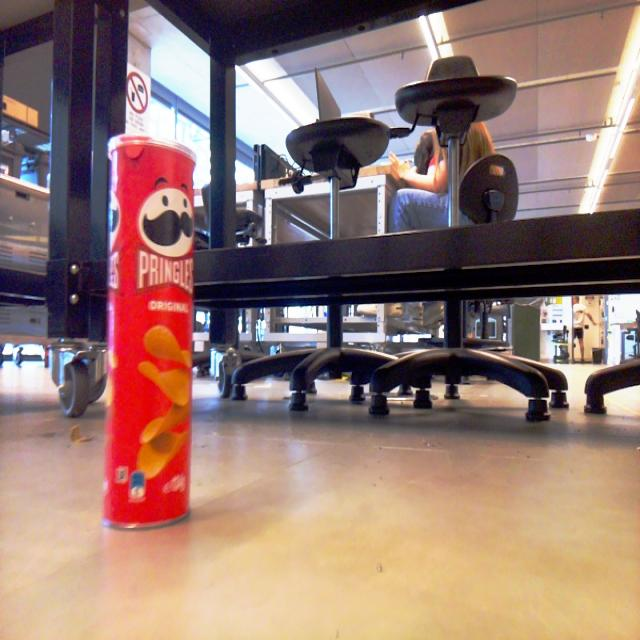redpringles: (90, 113, 217, 541)
